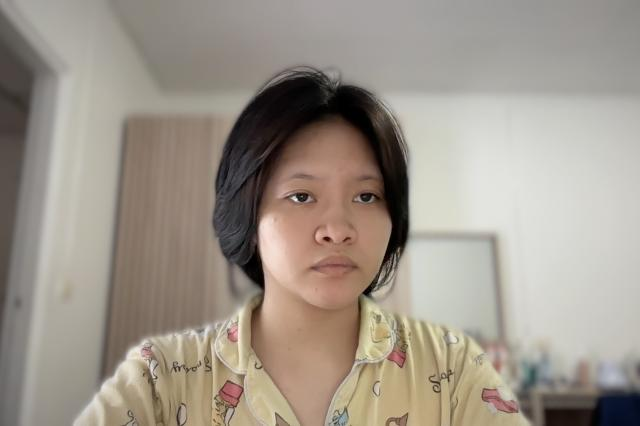fokus: (239, 78, 414, 310)
